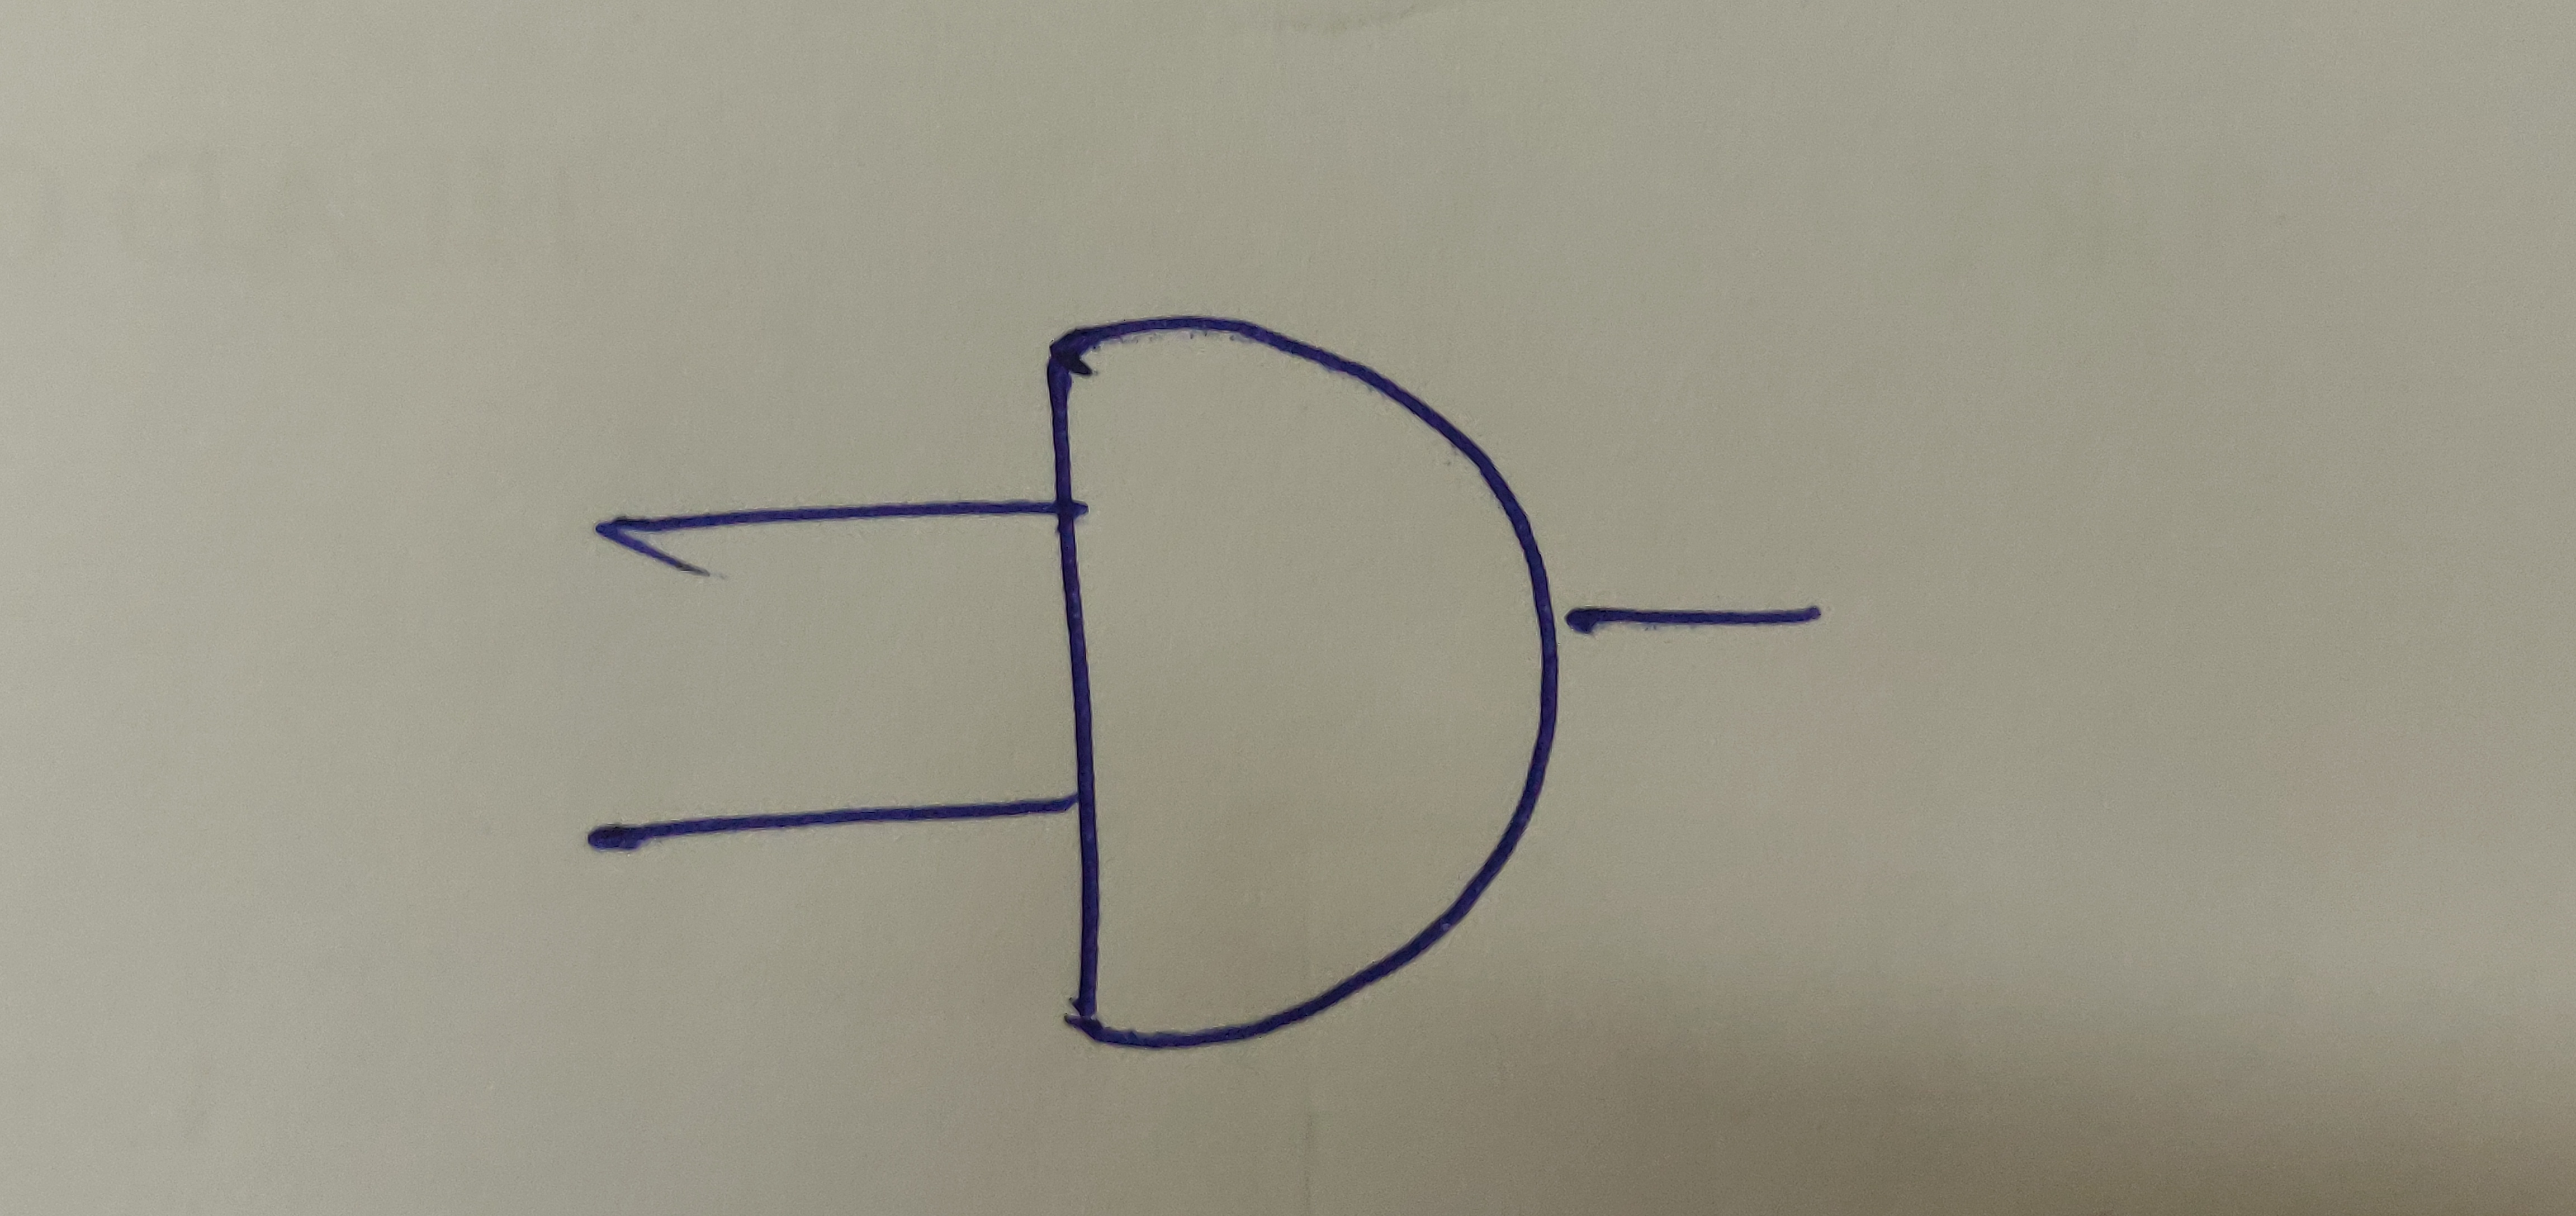and: (1032, 311, 1562, 1053)
